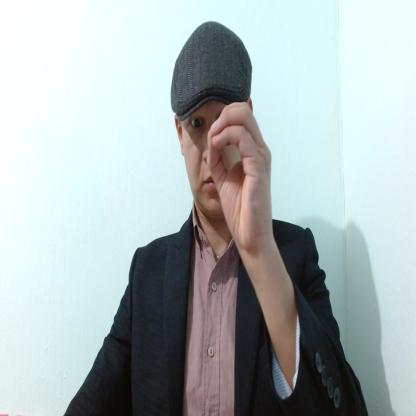O: (207, 101, 274, 249)
